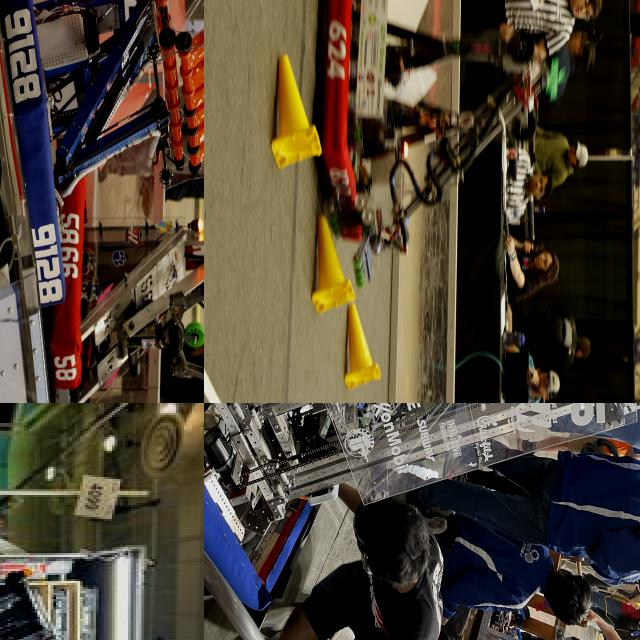FRC-Robots: (204, 403, 640, 640), (312, 0, 550, 255), (10, 0, 204, 288), (34, 181, 204, 403), (0, 469, 71, 640)
